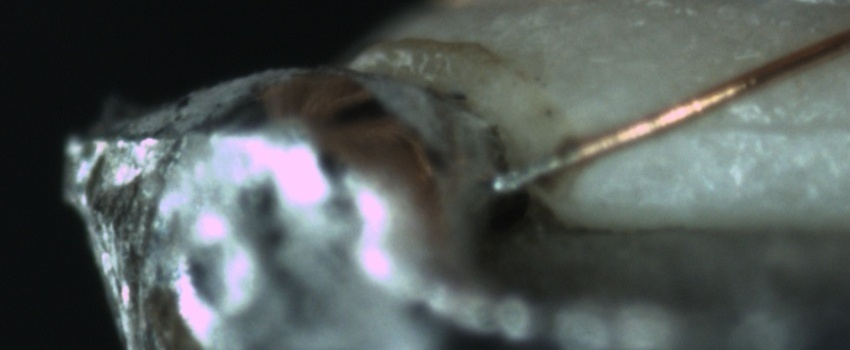DL: (676, 93, 848, 159)
TS: (490, 147, 575, 195)
